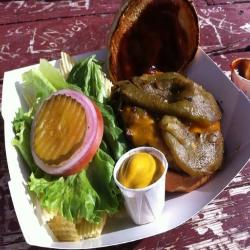burger: (105, 1, 231, 197)
salad: (28, 77, 124, 209)
